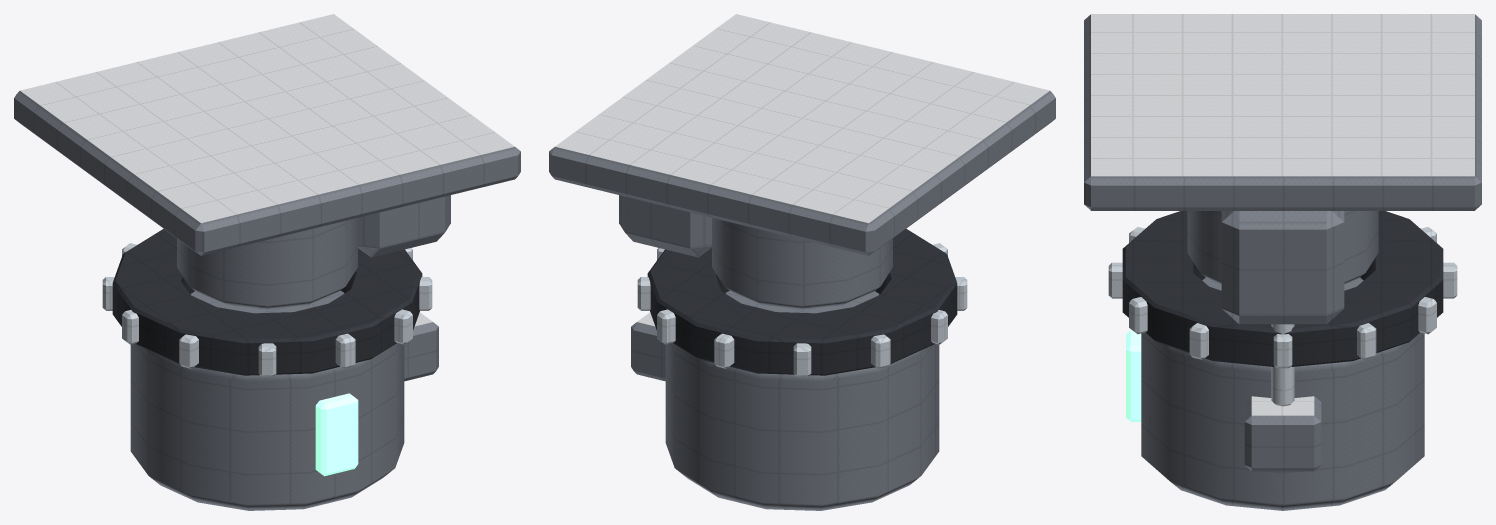
Rendered from R4X_IndependentSteering_LOD1.glb.
3 renders of one model, left to right at view 1: azimuth 30°, elevation 25°; view 2: azimuth 150°, elevation 25°; view 3: azimuth 270°, elevation 25°, orthographic. The views are drawn at different scales.
Parts seen in each view (by area): view 1: R4X_IndependentSteering_LOD1; view 2: R4X_IndependentSteering_LOD1; view 3: R4X_IndependentSteering_LOD1.
Boxes of the visible parts, box(x1,y1,x2,y2) form: R4X_IndependentSteering_LOD1: box(14, 14, 520, 510); R4X_IndependentSteering_LOD1: box(549, 14, 1055, 510); R4X_IndependentSteering_LOD1: box(1084, 14, 1481, 510).
Size of the model in its own units: 0.52 by 0.52 by 0.52.
Materials: 5 (4 with a texture image).
